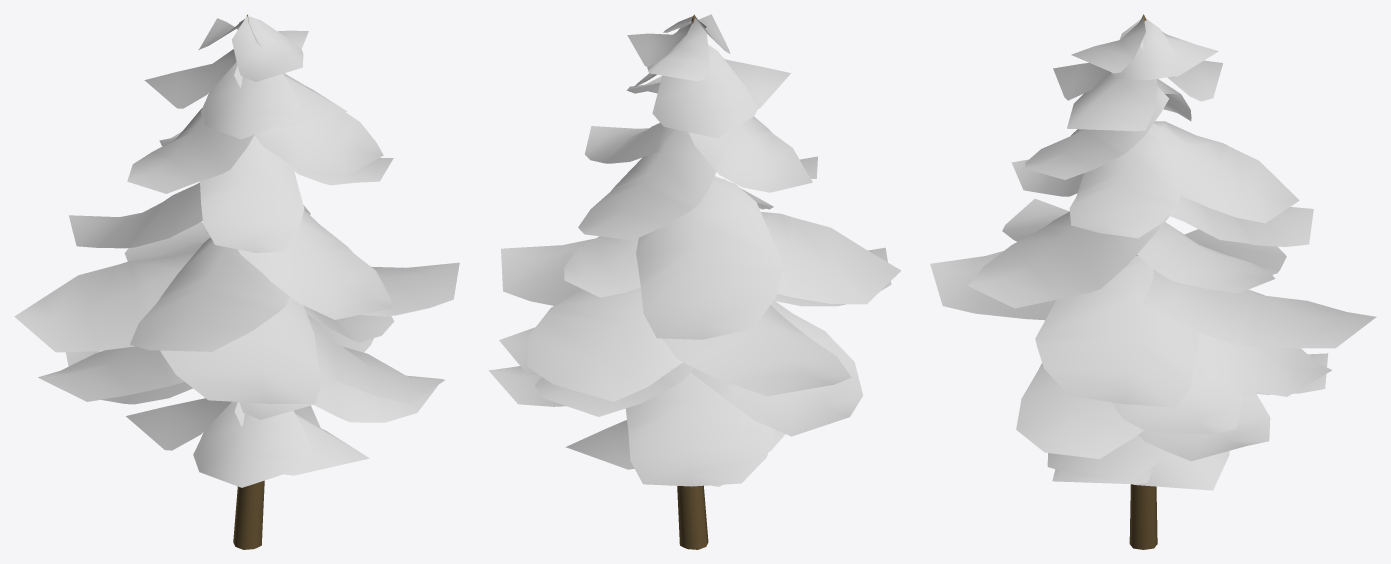
File: PineTree_5.fbx
The picture shows the model from 3 angles, left to right: view 1: azimuth 30°, elevation 25°; view 2: azimuth 150°, elevation 25°; view 3: azimuth 270°, elevation 25°; orthographic projection.
Visible parts, largest first — view 1: PineTree_5, PineTree_5.001; view 2: PineTree_5, PineTree_5.001; view 3: PineTree_5, PineTree_5.001.
Boxes of the visible parts, x1,y1,x2,y2 form: PineTree_5: (14, 16, 459, 487); PineTree_5.001: (233, 14, 264, 549); PineTree_5: (488, 14, 901, 486); PineTree_5.001: (677, 14, 708, 549); PineTree_5: (930, 16, 1376, 490); PineTree_5.001: (1129, 14, 1157, 549).
Size of the model in its own units: 331 by 430 by 329.
